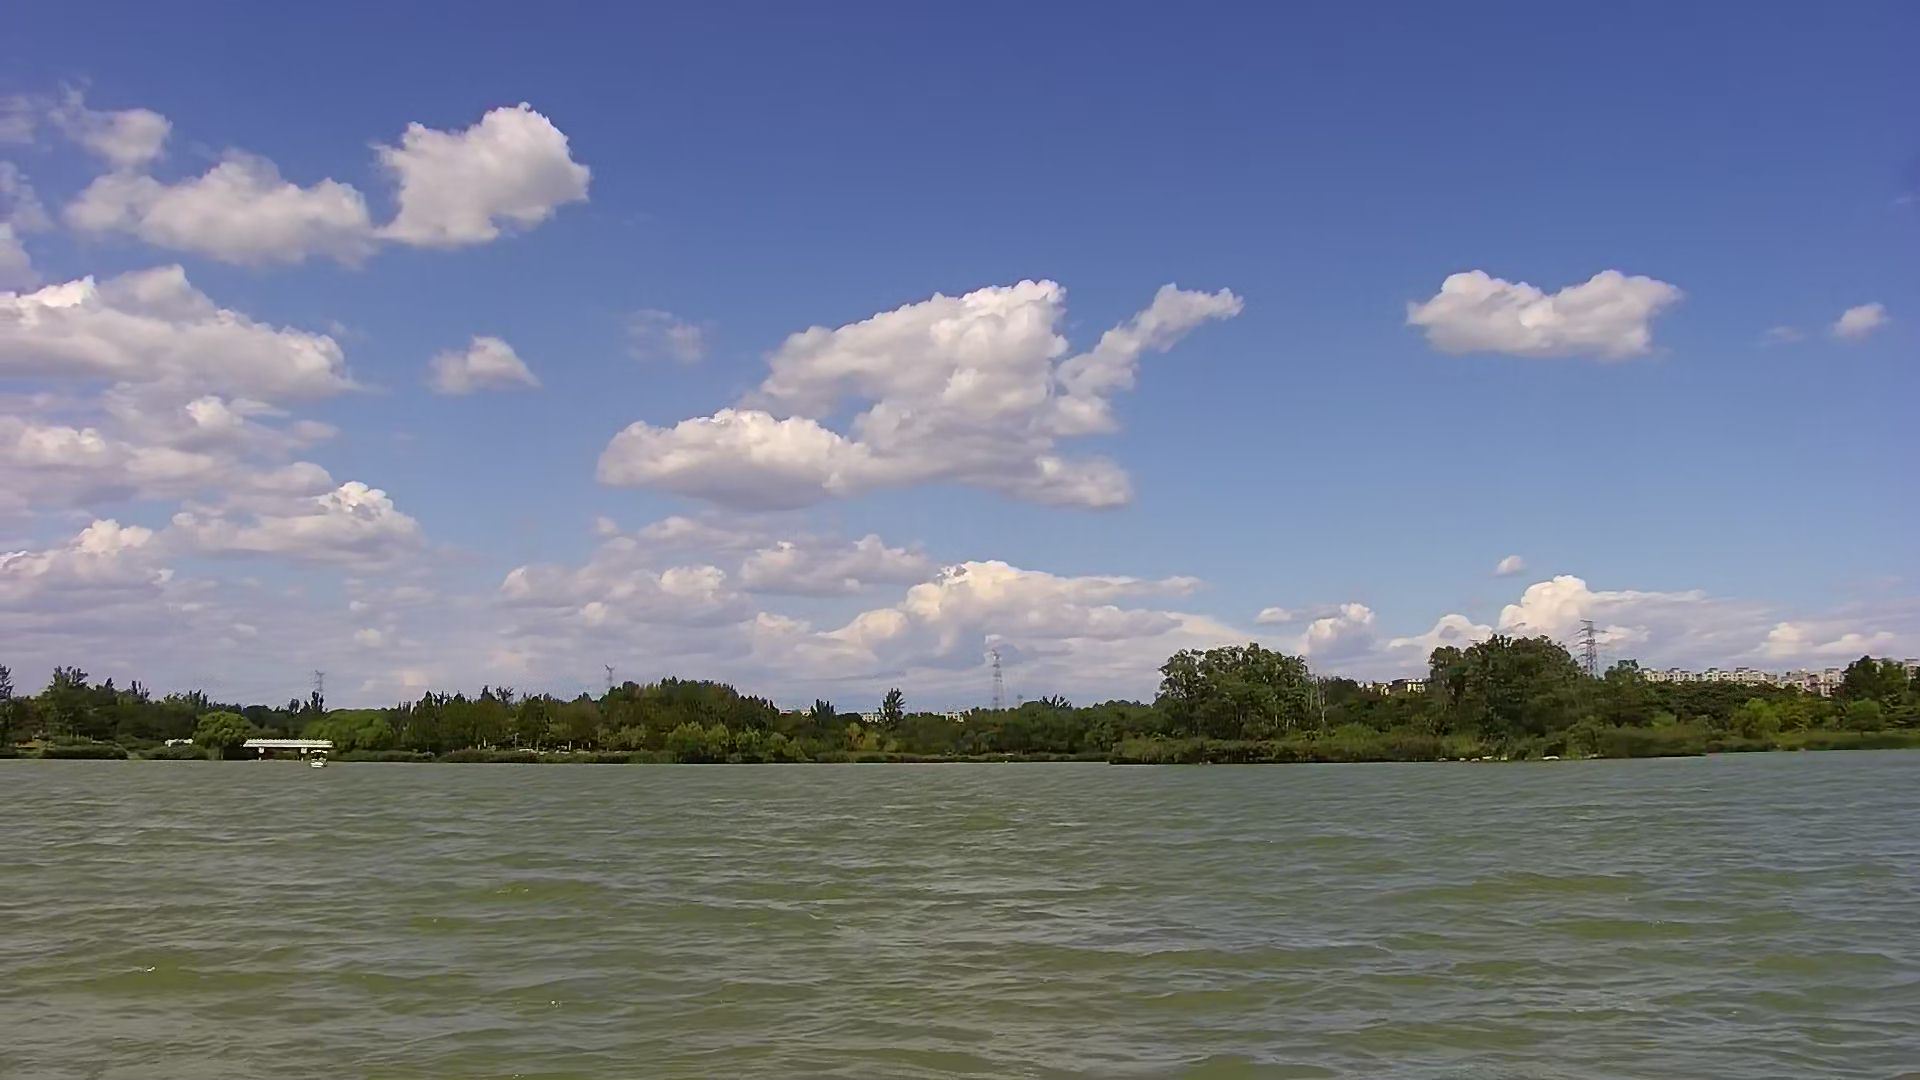boat: (303, 748, 334, 767)
bridge: (241, 724, 351, 770)
